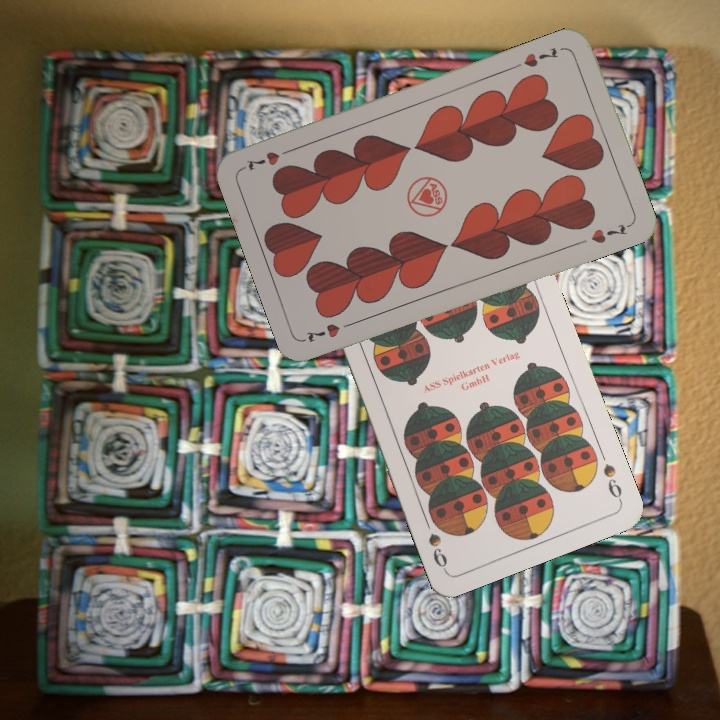H7: (301, 317, 358, 345), (519, 43, 561, 70)
S9: (599, 459, 625, 505)
